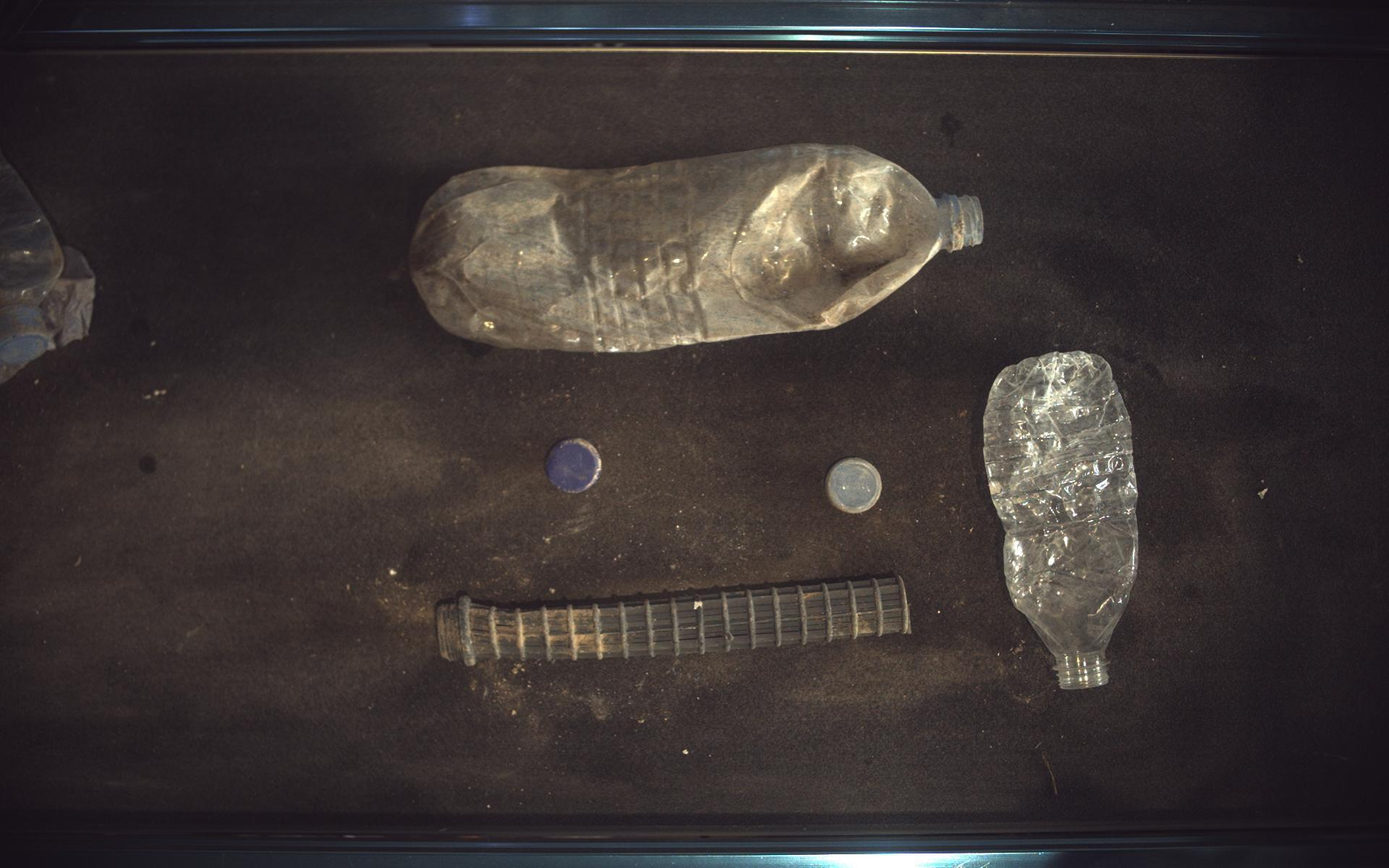general_w: (410, 143, 986, 352), (986, 351, 1141, 690), (1, 153, 94, 383), (546, 438, 602, 493), (829, 458, 884, 514)
plastic: (436, 576, 912, 668)
